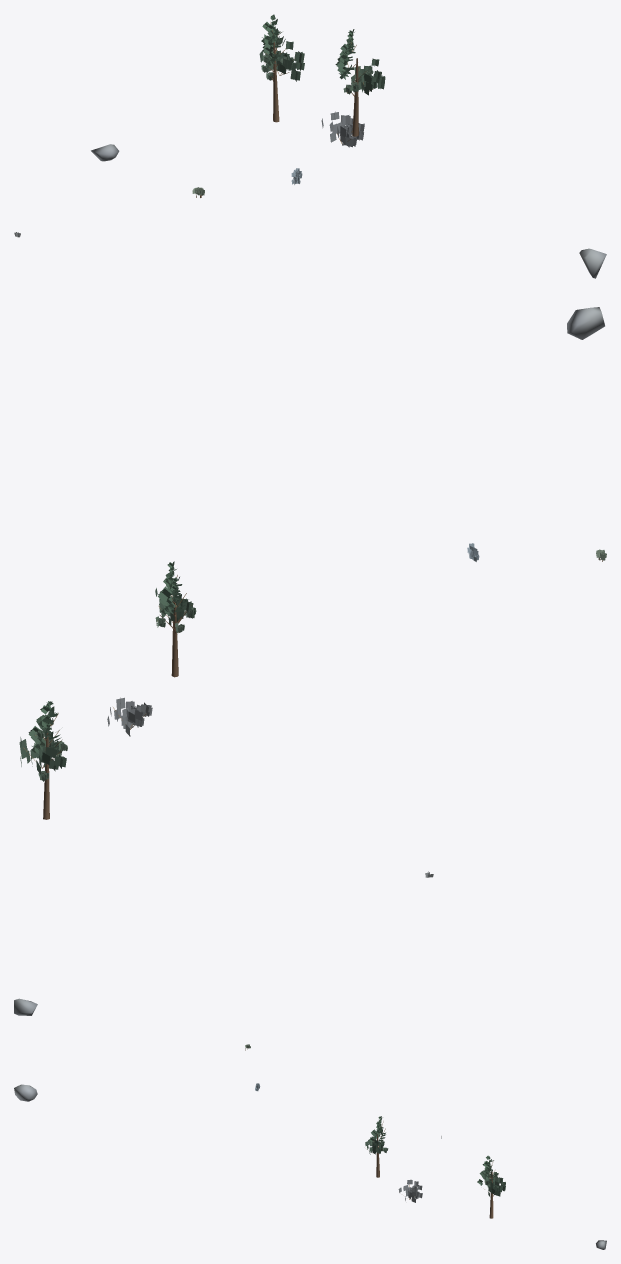
File: frost_land_scatter_c21_08.glb
3 views of the same model, one above another, from view 1: azimuth 30°, elevation 25°; view 2: azimuth 150°, elevation 25°; view 3: azimuth 270°, elevation 25° (orthographic). The views are drawn at different scales.
Visible parts, largest first — view 1: frost_land_scatter_c21_08; view 2: frost_land_scatter_c21_08; view 3: frost_land_scatter_c21_08.
Boxes of the visible parts, x1=… form: frost_land_scatter_c21_08: x1=14, y1=14, x2=606, y2=278; frost_land_scatter_c21_08: x1=14, y1=307, x2=606, y2=1015; frost_land_scatter_c21_08: x1=14, y1=1044, x2=606, y2=1249.
Bounding box in the file's own units: 40.9 × 32.49 × 109.
